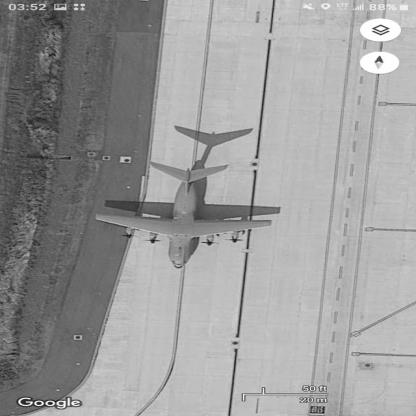A400M: (96, 162, 274, 270)
